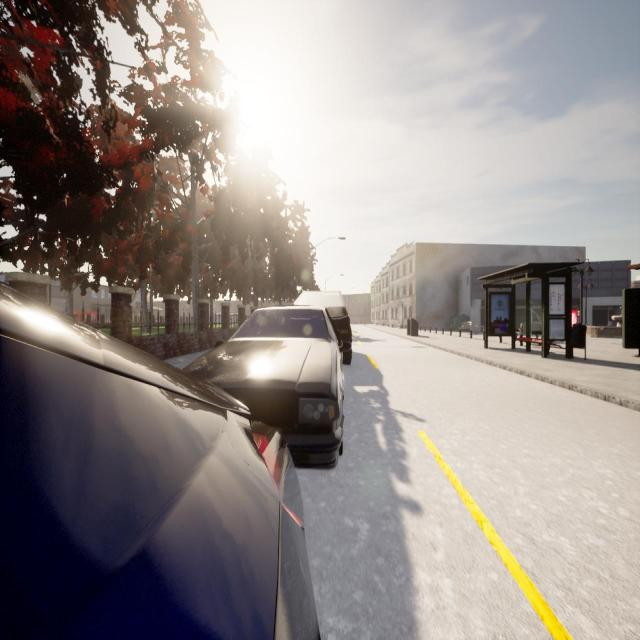Vehicle: (0, 287, 318, 639), (182, 306, 344, 468), (295, 290, 352, 367)
